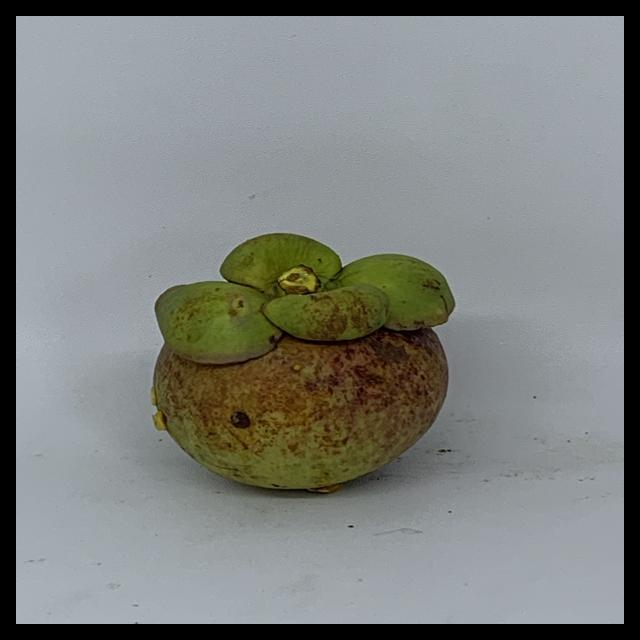mangosteen: (131, 217, 484, 495)
